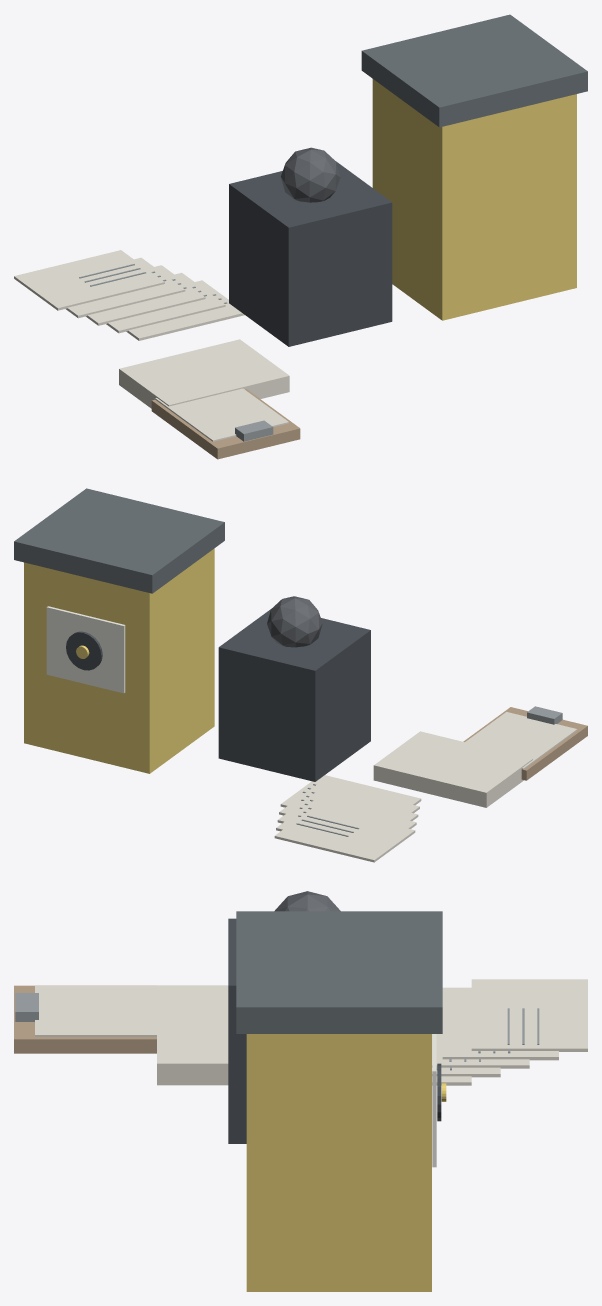
File: waste.fbx
3 renders of one model, top to bottom at view 1: azimuth 30°, elevation 25°; view 2: azimuth 150°, elevation 25°; view 3: azimuth 270°, elevation 25°, orthographic. The views are drawn at different scales.
Parts seen in each view (by area): view 1: waste; view 2: waste; view 3: waste.
Part boxes in pixels (bbox=[...]): waste: bbox=[14, 14, 587, 459]; waste: bbox=[14, 488, 587, 862]; waste: bbox=[14, 891, 587, 1291].
Size of the model in its own units: 1.32 by 0.605 by 1.09.
